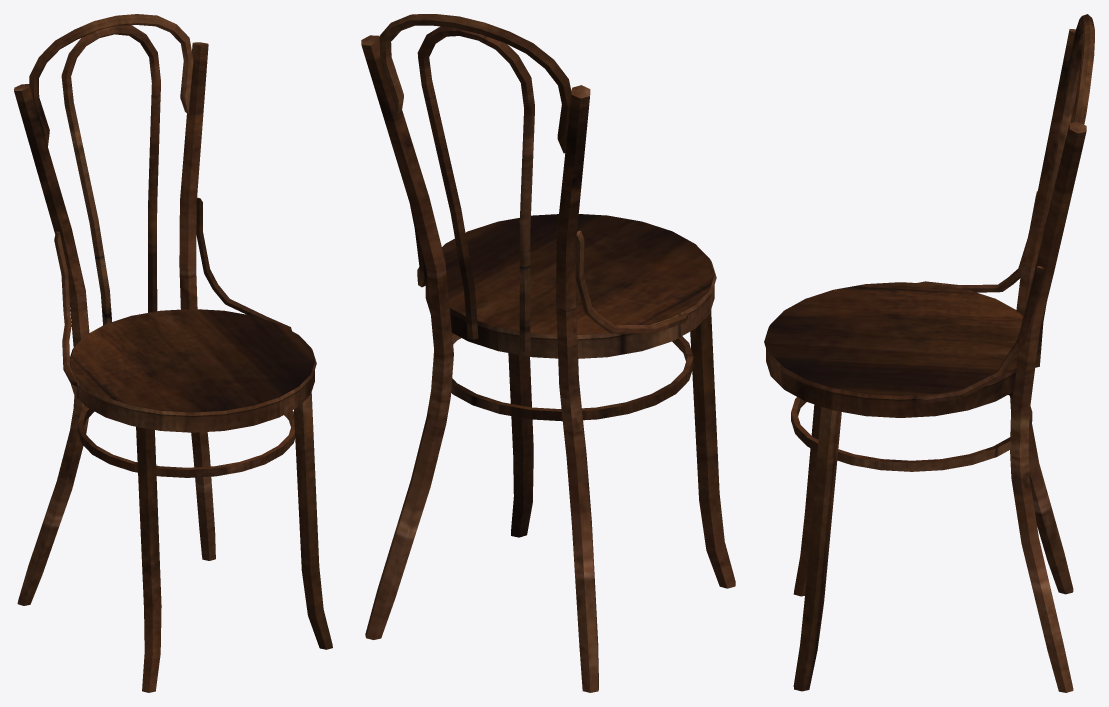
File: silla.obj
The picture shows the model from 3 angles, left to right: view 1: azimuth 30°, elevation 25°; view 2: azimuth 150°, elevation 25°; view 3: azimuth 270°, elevation 25°; orthographic projection. The views are drawn at different scales.
Parts seen in each view (by area): view 1: chair; view 2: chair; view 3: chair.
Boxes of the visible parts, box(x1,y1,x2,y2) form: chair: box(14, 14, 332, 692); chair: box(361, 14, 735, 692); chair: box(764, 14, 1094, 692).
Bounding box in the file's own units: 0.2012 × 0.4841 × 0.2386.
Materials: 1 (1 with a texture image).
